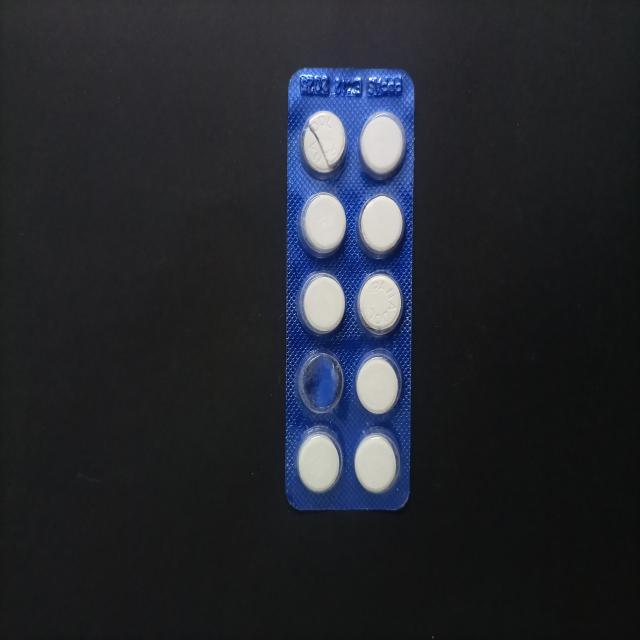defect: (299, 108, 350, 182), (294, 345, 345, 418)
